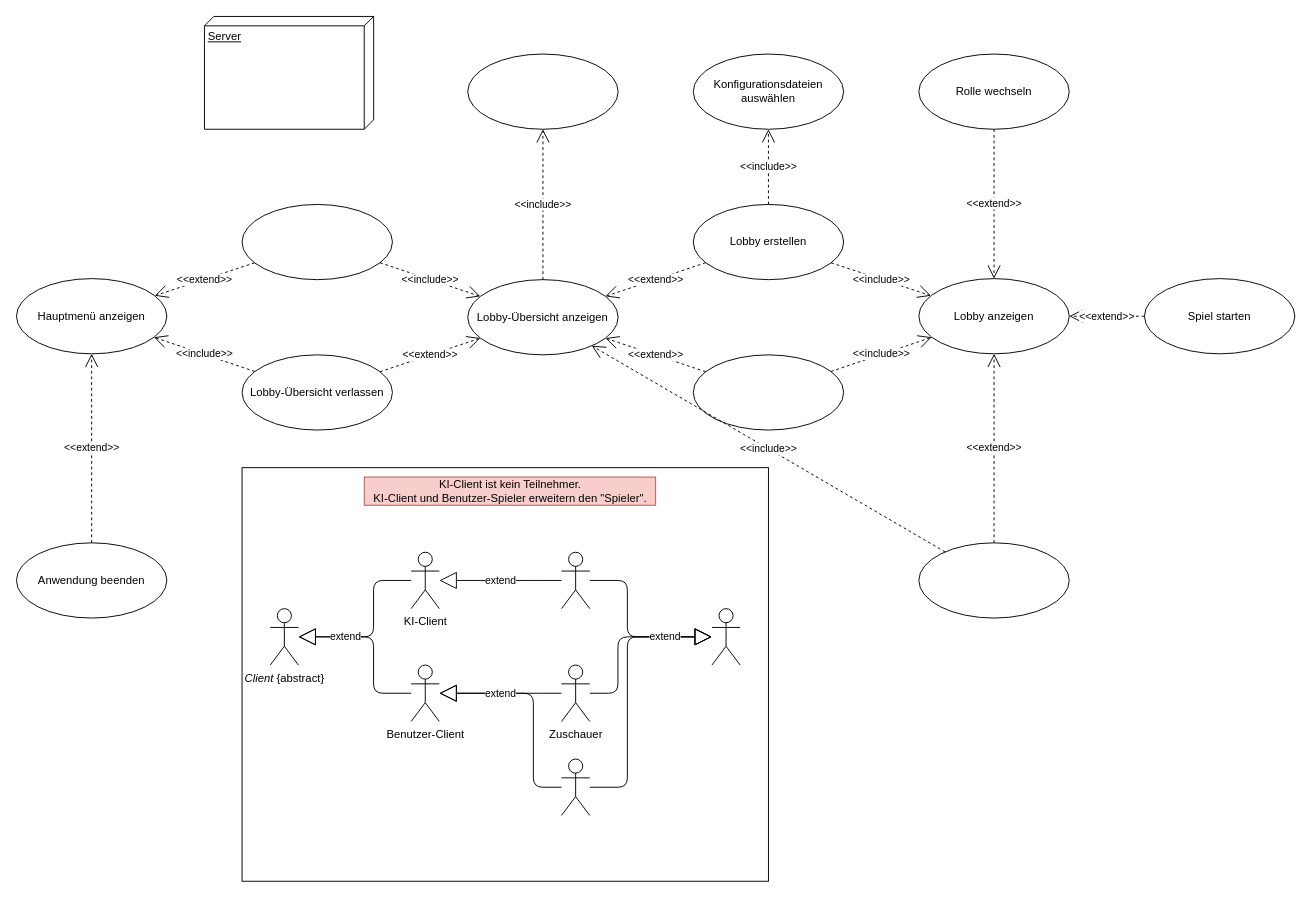
Some shapes in this 1311 by 898 pixel diagram are drawn without their labels. Here are the shapes that lost their labels. From the top down, the centre of each, then its label:
At [542,91]: "Nutzernamen festlegen".
At [316,242]: "Zur Lobby-Übersicht wechseln".
At [768,392]: "Lobby beitreten".
At [575,580]: "KI-Spieler".
At [993,580]: "Lobby verlassen".
At [725,636]: "Teilnehmer".
At [575,786]: "Benutzer-Spieler".
